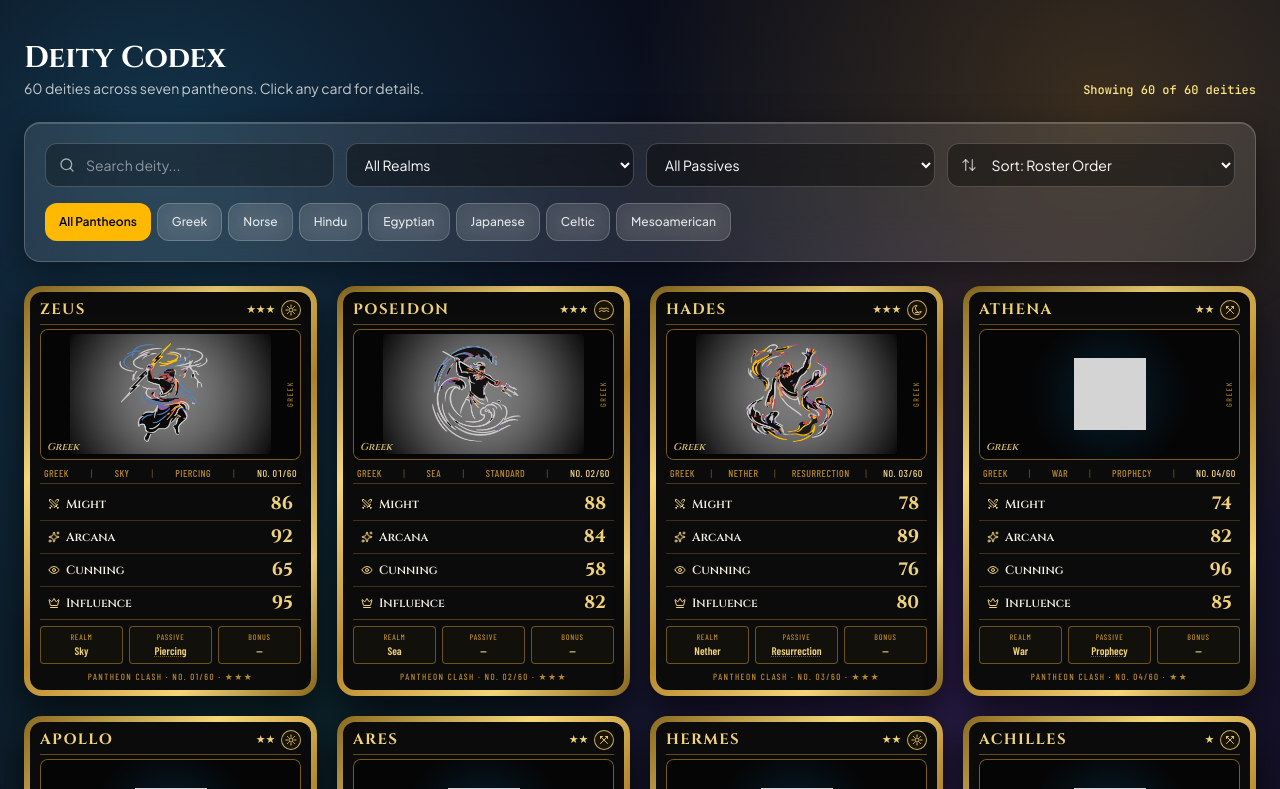
Test case: Codex component › Blue Pill: filters by pantheon/realm/passive, sorts by stat, and opens card detail modal
The width and height of the screenshot is (1280, 789).
Check: the text "Showing 60 of 60 deities" is shown, box [1083,82,1256,98]
Click the tab "Greek" at (190, 222), box [157,203,222,241]
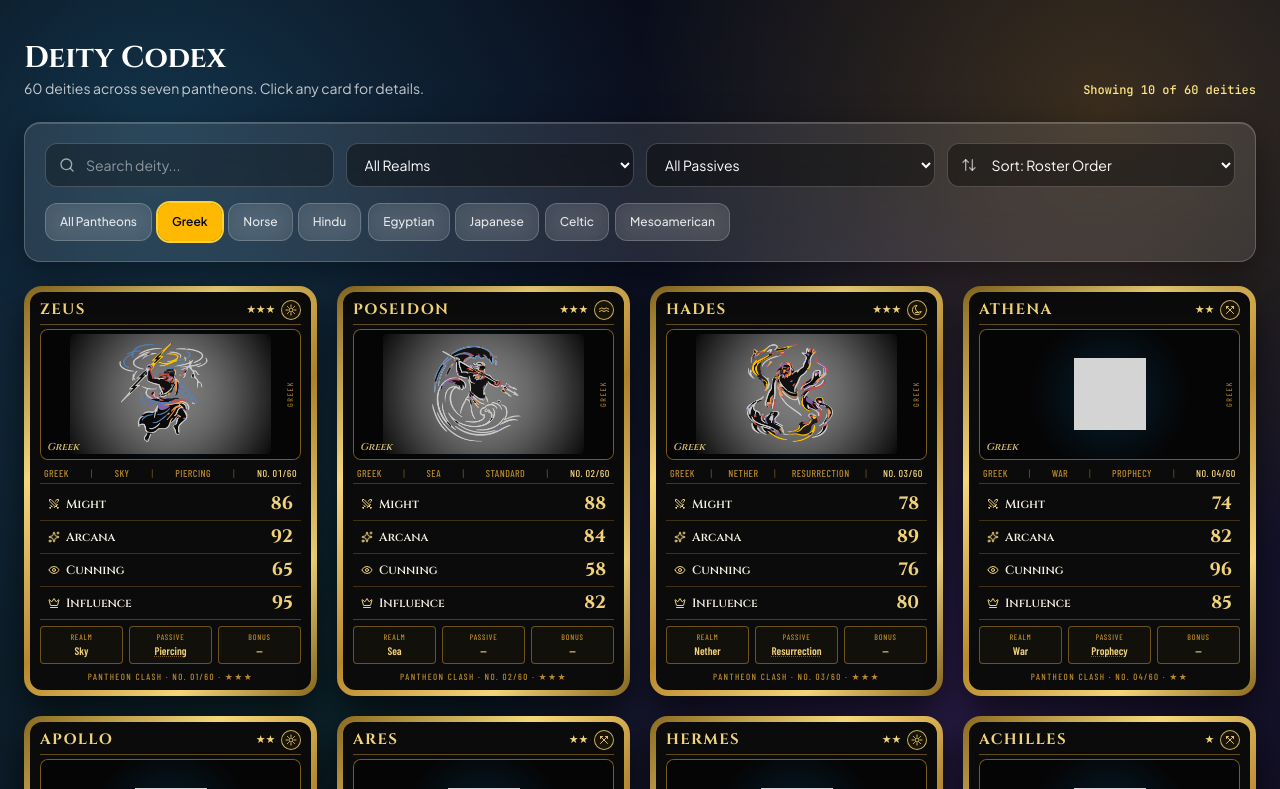
Check: the element named "Zeus card" is shown, box [24,286,317,696]
Select "Piercing" in the dropdown named "filter by passive" at (790, 165), box [646,143,934,187]
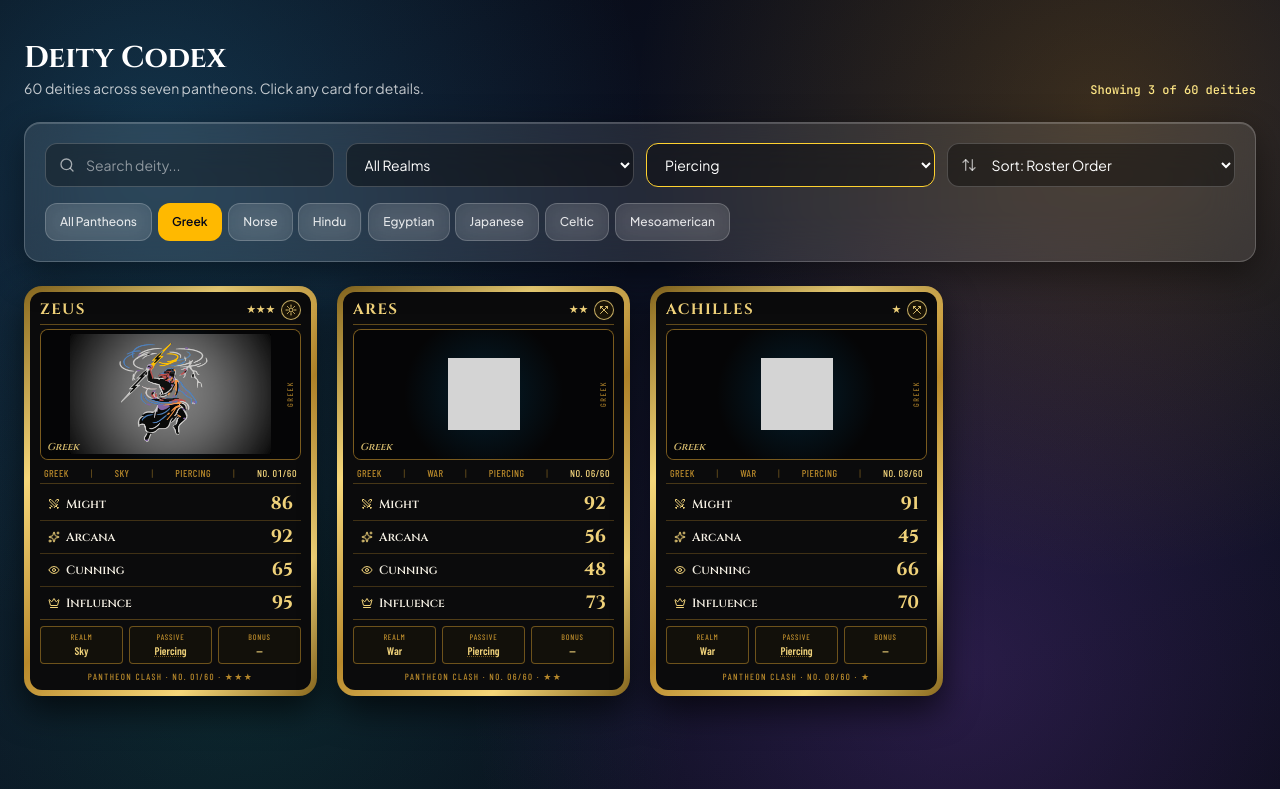
Select "Sort: Highest Might" in the dropdown named "sort cards" at (1091, 165), box [946,143,1235,187]
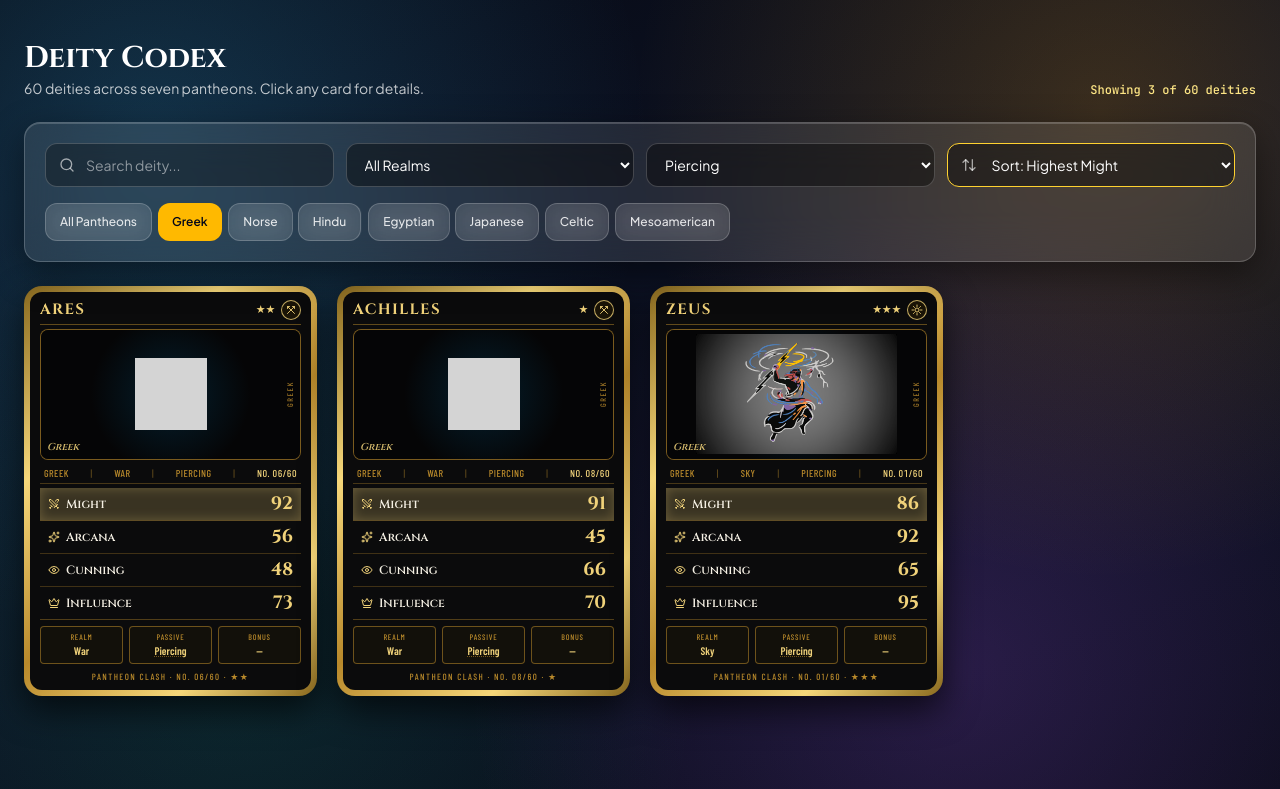
Click the element named "Zeus card" at (796, 491), box [650,286,943,696]
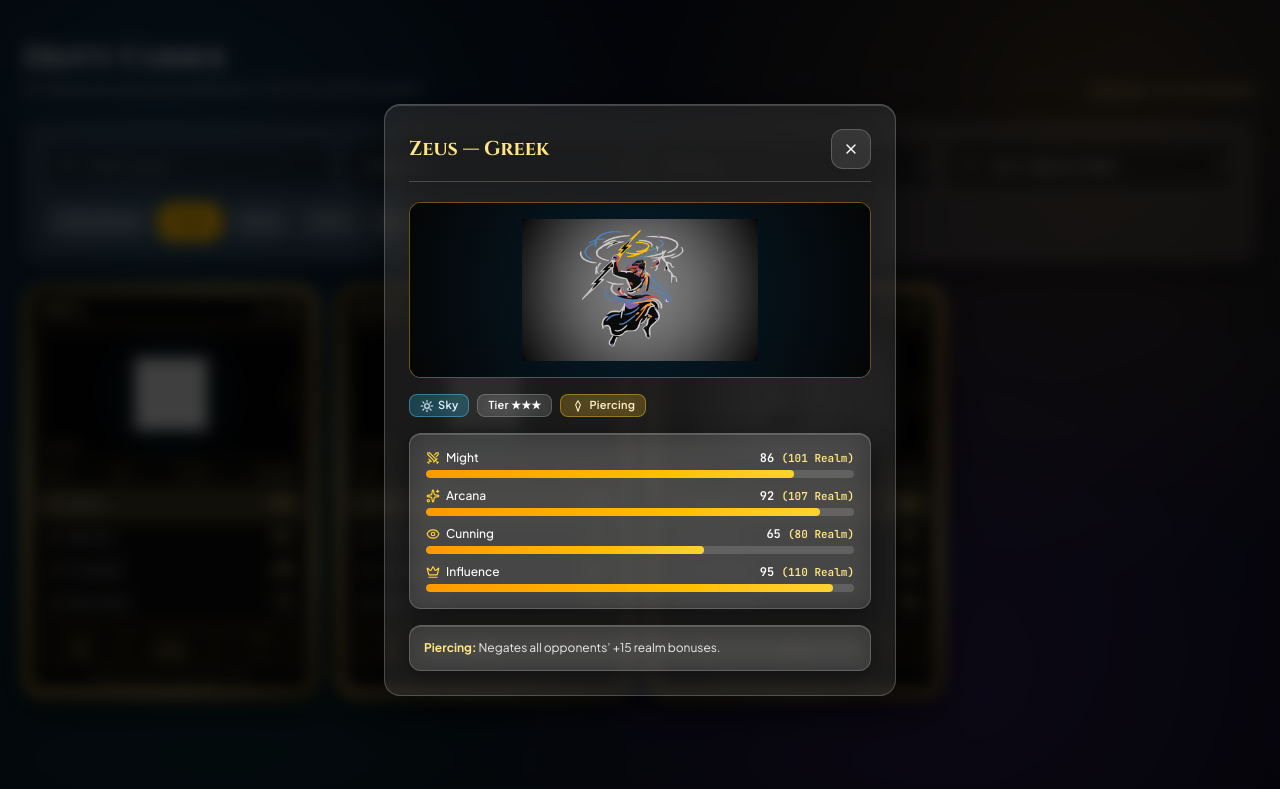
Check: the dialog is shown, box [384,104,896,696]
Check: the heading "Zeus — Greek" is shown, box [409,135,549,163]
Click the button named "close zeus — greek" at (851, 149), box [831,129,871,169]
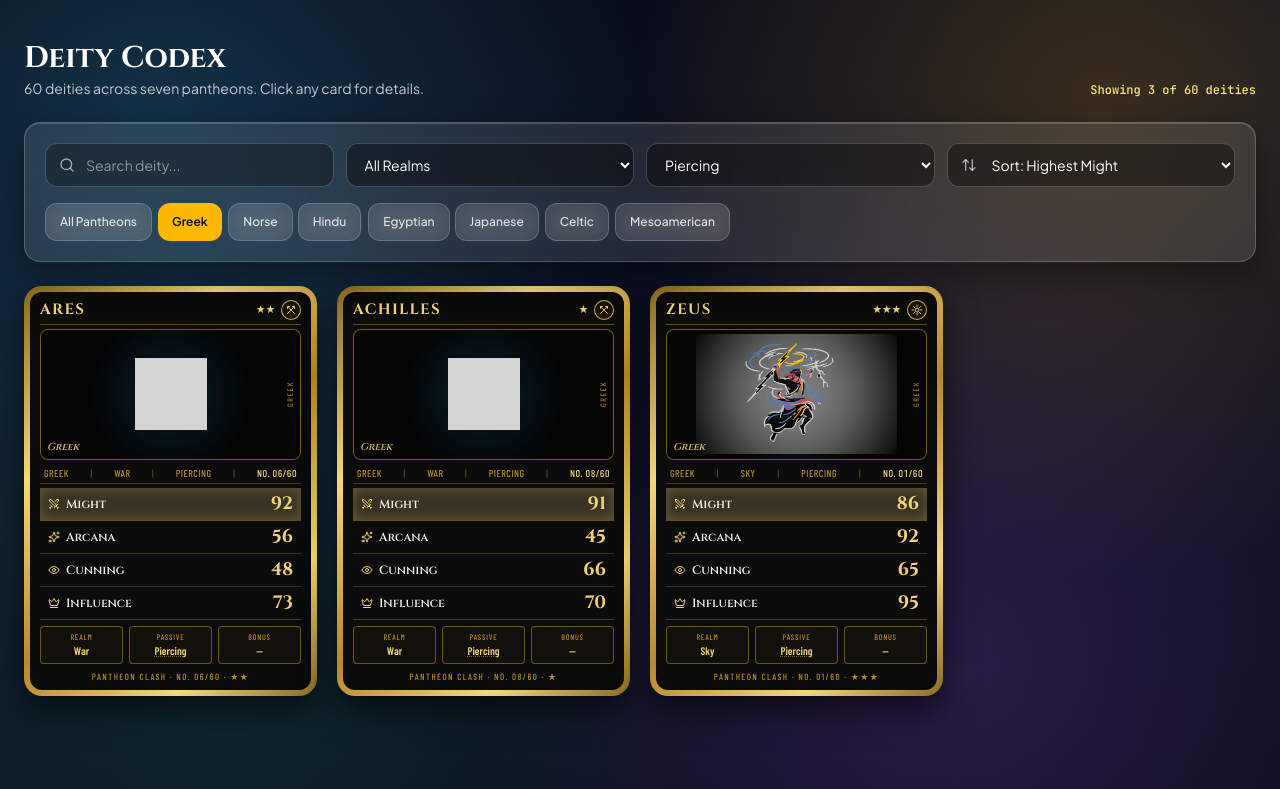
Check: the dialog is gone
